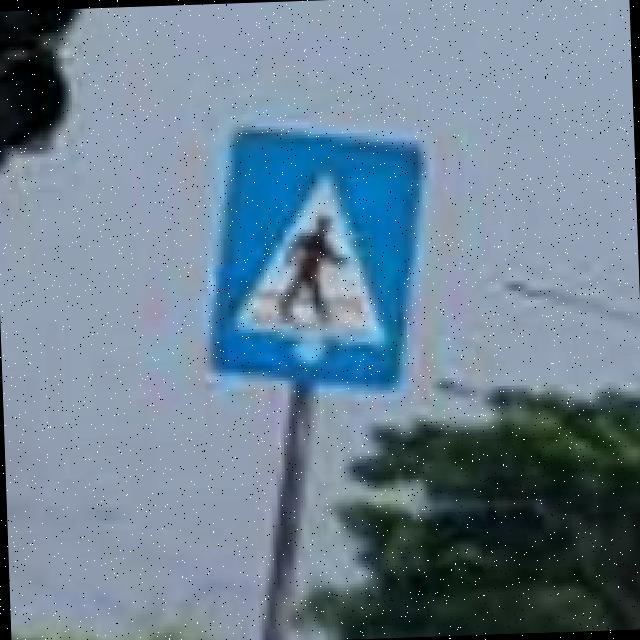Przejscie dla pieszych: (200, 124, 432, 403)
